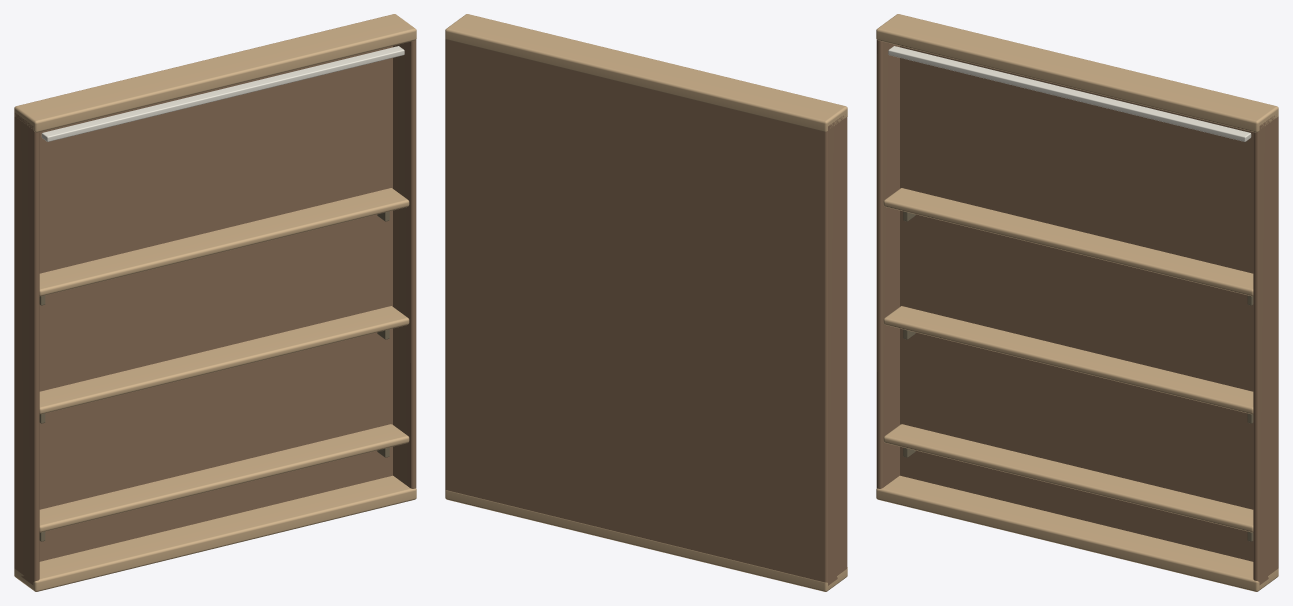
The model's file is wall_cafe.glb.
3 renders of one model, left to right at view 1: azimuth 30°, elevation 25°; view 2: azimuth 150°, elevation 25°; view 3: azimuth 330°, elevation 25°, orthographic.
Visible parts, largest first — view 1: Closed back, seated against existing opaque boundary, Bottom / crown.001, Outer stile, Bottom / crown, Outer stile.001, Load-bearing shelf, Load-bearing shelf.002, Load-bearing shelf.001, Integrated light diffuser; view 2: Closed back, seated against existing opaque boundary, Bottom / crown.001, Outer stile, Bottom / crown; view 3: Closed back, seated against existing opaque boundary, Bottom / crown.001, Outer stile.001, Bottom / crown, Outer stile, Load-bearing shelf, Load-bearing shelf.002, Load-bearing shelf.001, Integrated light diffuser.
Boxes of the visible parts, x1,y1,x2,y2 form: Closed back, seated against existing opaque boundary: (14, 46, 392, 568); Bottom / crown.001: (14, 14, 416, 132); Outer stile: (15, 113, 39, 584); Bottom / crown: (14, 475, 416, 591); Outer stile.001: (393, 40, 416, 488); Load-bearing shelf: (39, 424, 409, 532); Load-bearing shelf.002: (39, 188, 409, 296); Load-bearing shelf.001: (39, 306, 409, 414); Integrated light diffuser: (41, 46, 404, 141); Closed back, seated against existing opaque boundary: (445, 39, 828, 585); Bottom / crown.001: (445, 14, 847, 131); Outer stile: (828, 115, 847, 584); Bottom / crown: (445, 490, 847, 591); Closed back, seated against existing opaque boundary: (900, 46, 1278, 568); Bottom / crown.001: (876, 14, 1278, 132); Outer stile.001: (1253, 115, 1277, 584); Bottom / crown: (876, 475, 1278, 591); Outer stile: (876, 40, 899, 488); Load-bearing shelf: (883, 424, 1253, 532); Load-bearing shelf.002: (883, 188, 1253, 296); Load-bearing shelf.001: (883, 306, 1253, 414); Integrated light diffuser: (888, 46, 1251, 141).
Size of the model in its own units: 2 by 2.36 by 0.2.
